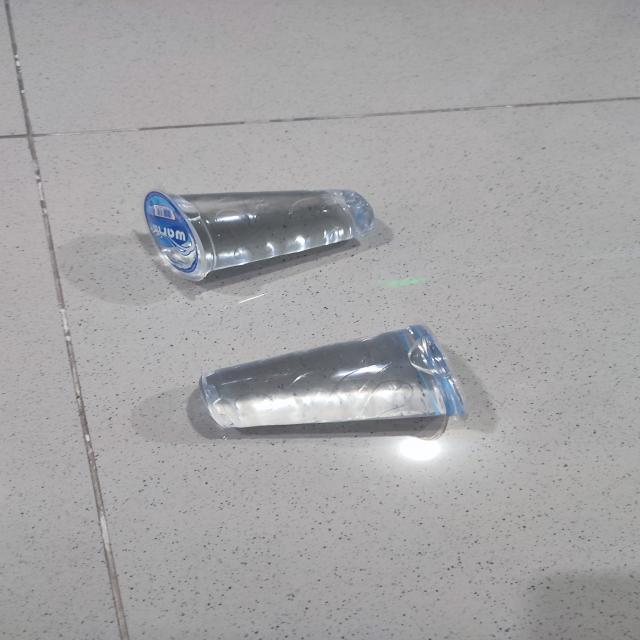air gelas: (167, 324, 495, 431), (124, 181, 390, 287)
